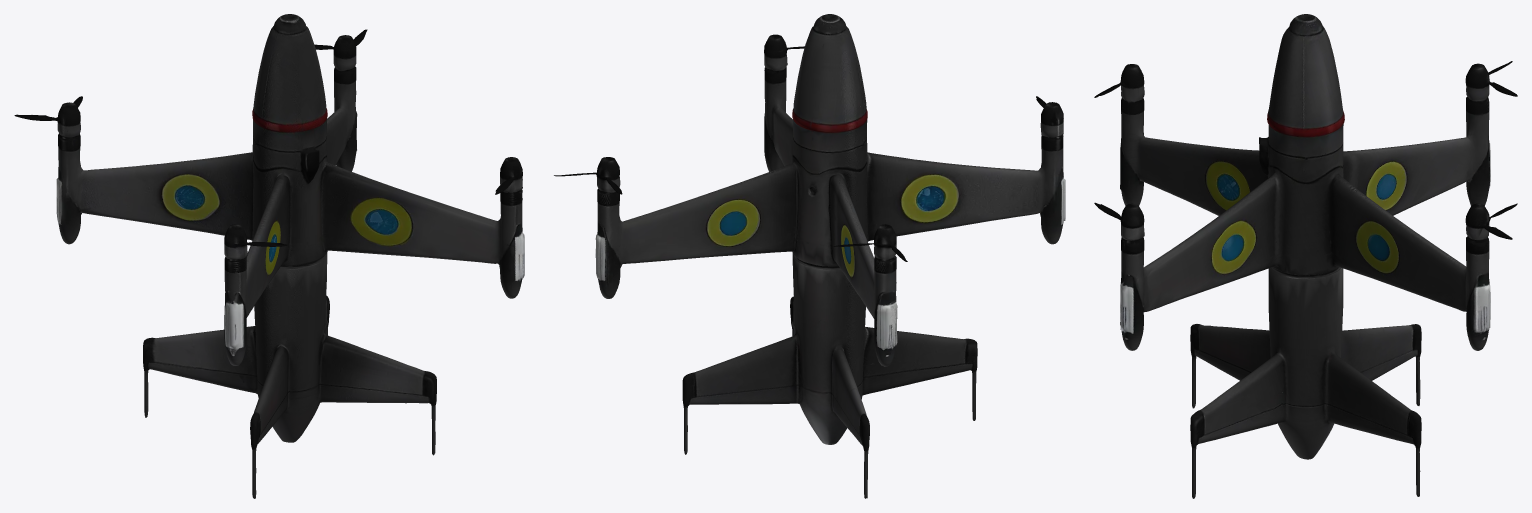
File: pysyun.glb
3 views of the same model, side by side, from view 1: azimuth 30°, elevation 25°; view 2: azimuth 150°, elevation 25°; view 3: azimuth 270°, elevation 25° (orthographic). The views are drawn at different scales.
Parts seen in each view (by area): view 1: Object_2; view 2: Object_2; view 3: Object_2.
Part boxes in pixels (x1,y1,x2,y2): Object_2: [14, 14, 524, 498]; Object_2: [554, 14, 1065, 498]; Object_2: [1094, 14, 1517, 498].
Size of the model in its own units: 1.66 by 1.9 by 1.66.
1 material, 1 textured.
